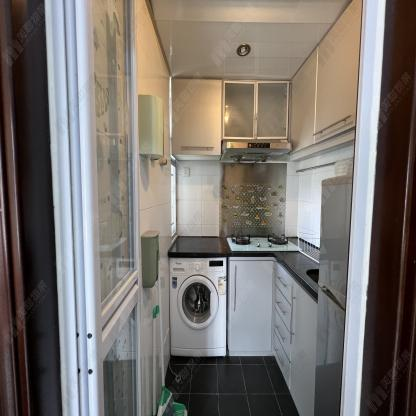Cupboard: (222, 79, 289, 140), (170, 78, 222, 156)
Exhaust Hood: (220, 138, 294, 163)
Fridge: (312, 175, 355, 416)
Stove: (226, 233, 303, 252)
Washing Machine: (169, 257, 228, 359)
